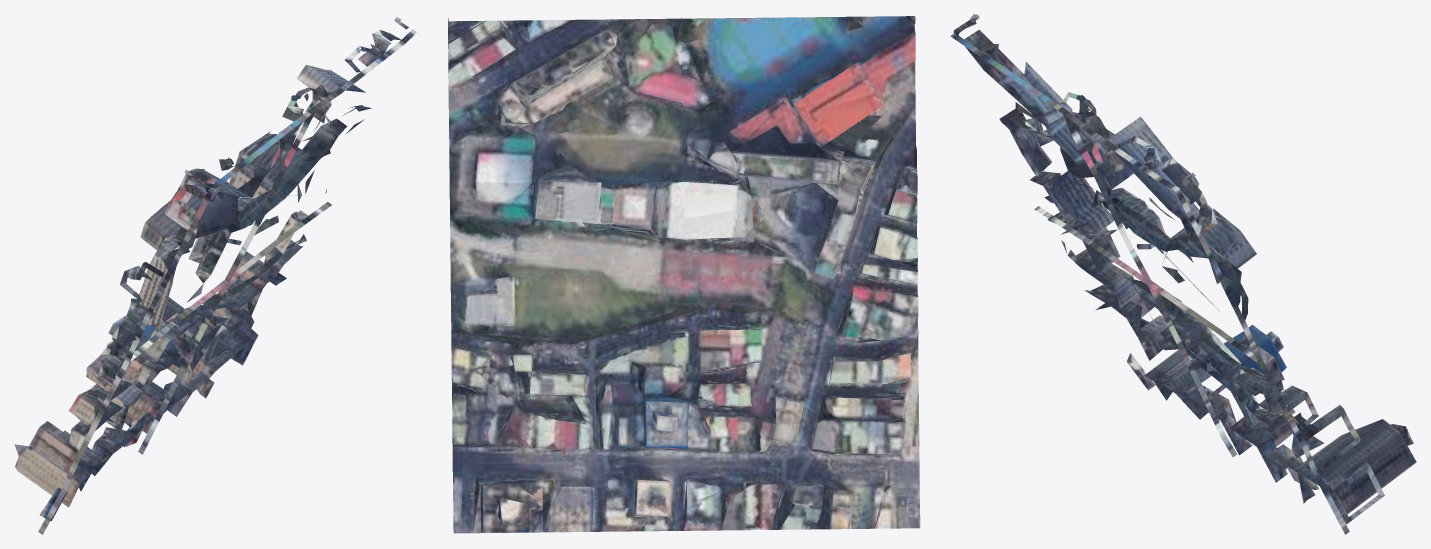
3 views of the same model, side by side, from view 1: azimuth 30°, elevation 25°; view 2: azimuth 150°, elevation 25°; view 3: azimuth 270°, elevation 25° (orthographic). The views are drawn at different scales.
Bounding box in the file's own units: 305 × 287 × 301.
Materials: 1 (1 with a texture image).
